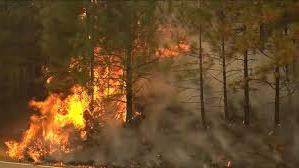fire: (4, 26, 142, 157), (155, 24, 189, 55)
